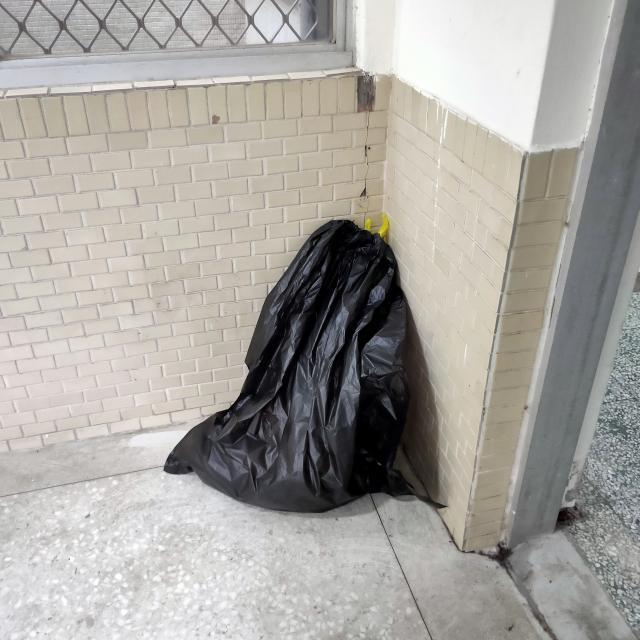Vinyl: (148, 193, 444, 519)
